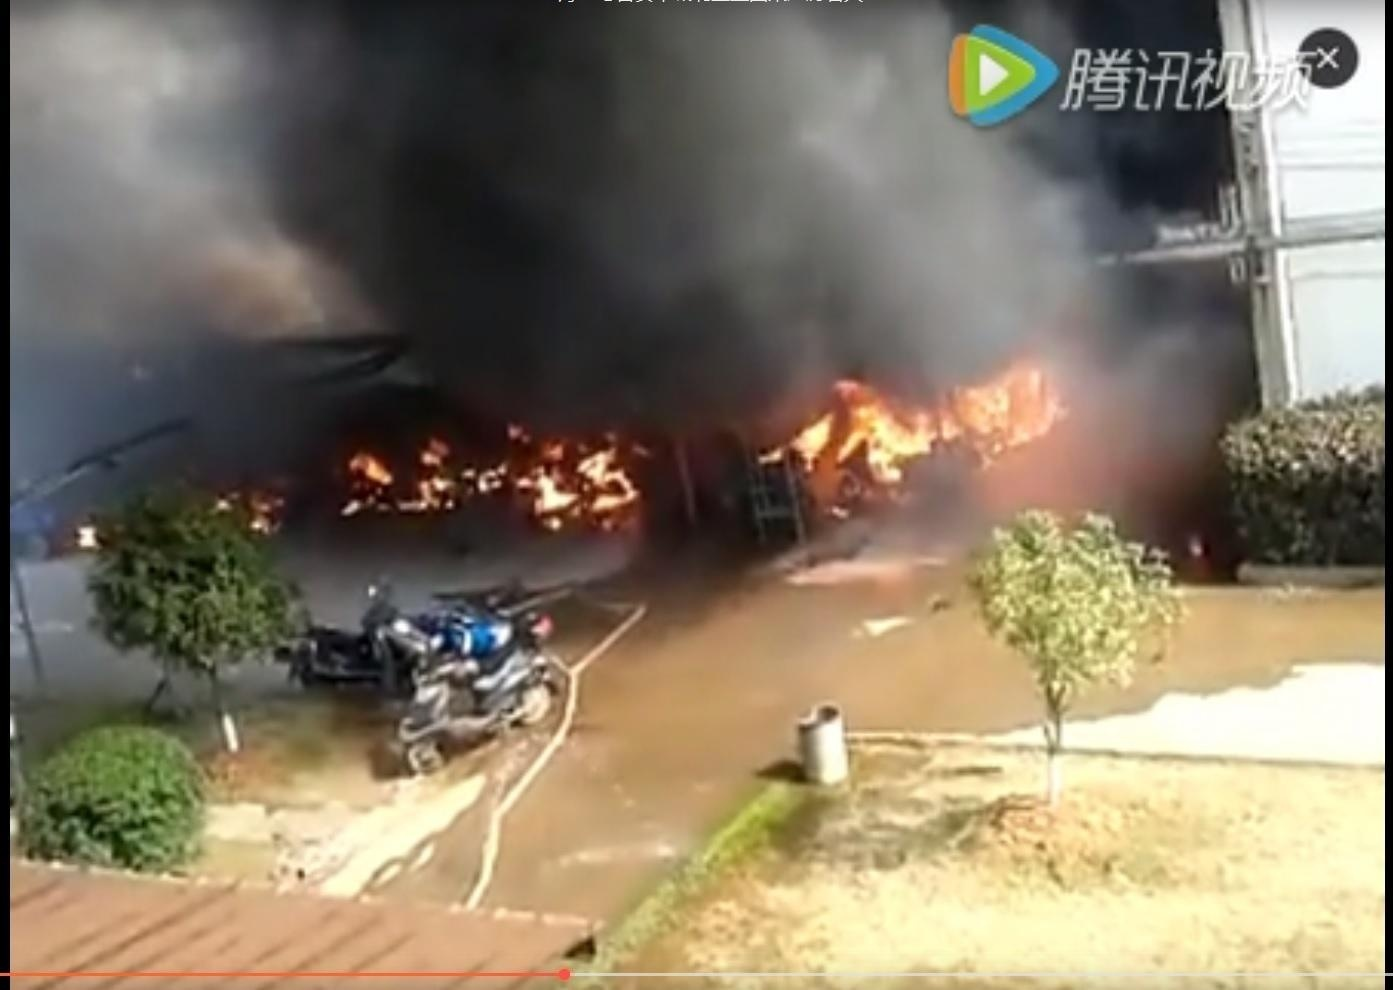fire: (769, 360, 1062, 477), (345, 425, 649, 522)
